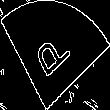P_SW: (32, 25, 78, 85)
